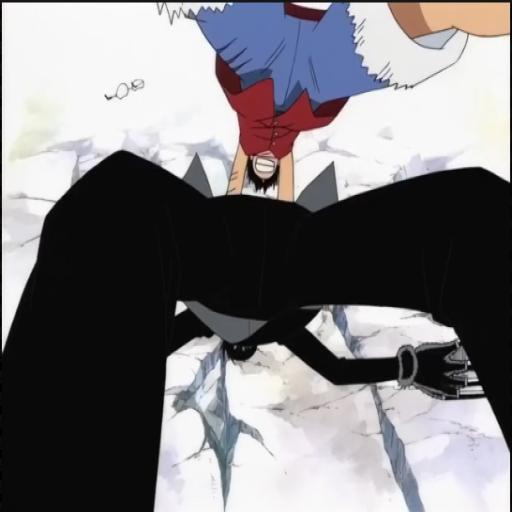Luffy: (159, 0, 512, 187)
